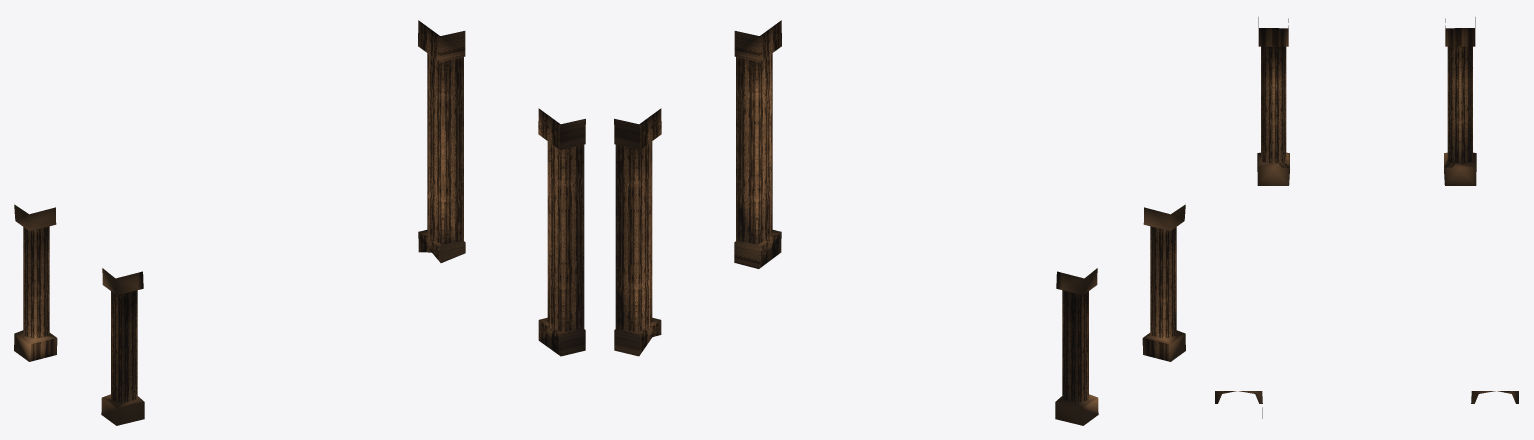
The model's file is test-pillars-nomat.glb.
3 views of the same model, side by side, from view 1: azimuth 30°, elevation 25°; view 2: azimuth 150°, elevation 25°; view 3: azimuth 270°, elevation 25° (orthographic). The views are drawn at different scales.
Visible parts, largest first — view 1: pillars; view 2: pillars; view 3: pillars.
Part boxes in pixels (x1,y1,x2,y2): pillars: [14, 20, 585, 425]; pillars: [614, 20, 1185, 425]; pillars: [1215, 17, 1518, 418].
Bounding box in the file's own units: 273 × 135 × 151.
1 material, 1 textured.
